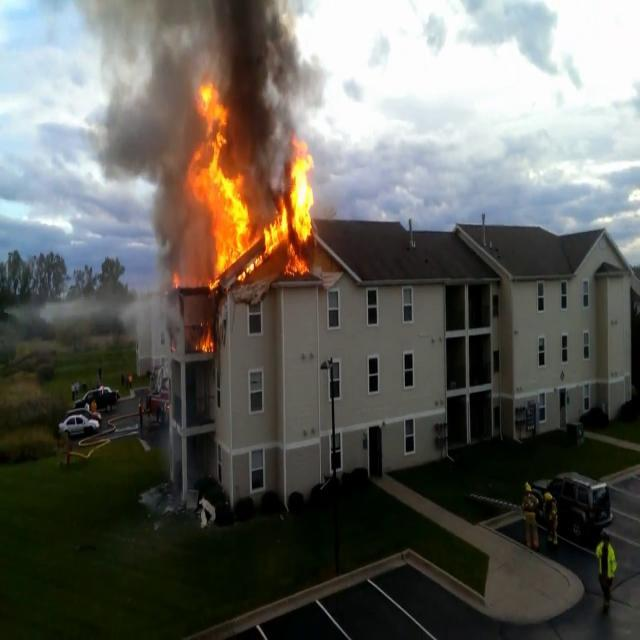Fire: (185, 86, 259, 276), (262, 144, 320, 268), (197, 324, 216, 358)
Smoke: (92, 0, 326, 194)
